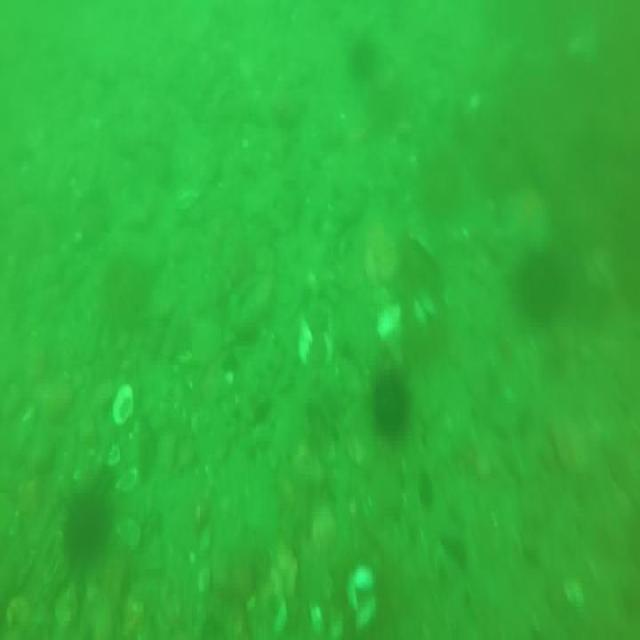echinus: (505, 250, 573, 326), (59, 498, 114, 569), (360, 373, 417, 433), (349, 25, 378, 79)
scallop: (343, 566, 374, 608), (111, 381, 134, 423), (115, 512, 141, 548), (410, 296, 438, 327), (116, 466, 140, 493), (299, 322, 313, 368), (106, 442, 120, 468), (131, 510, 133, 517)
